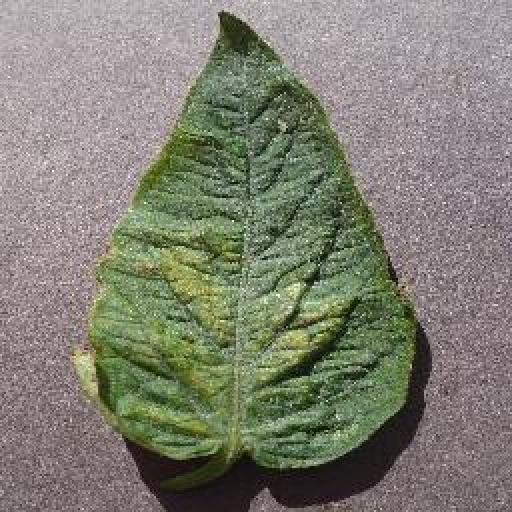Spider Mites: (78, 11, 420, 473)
